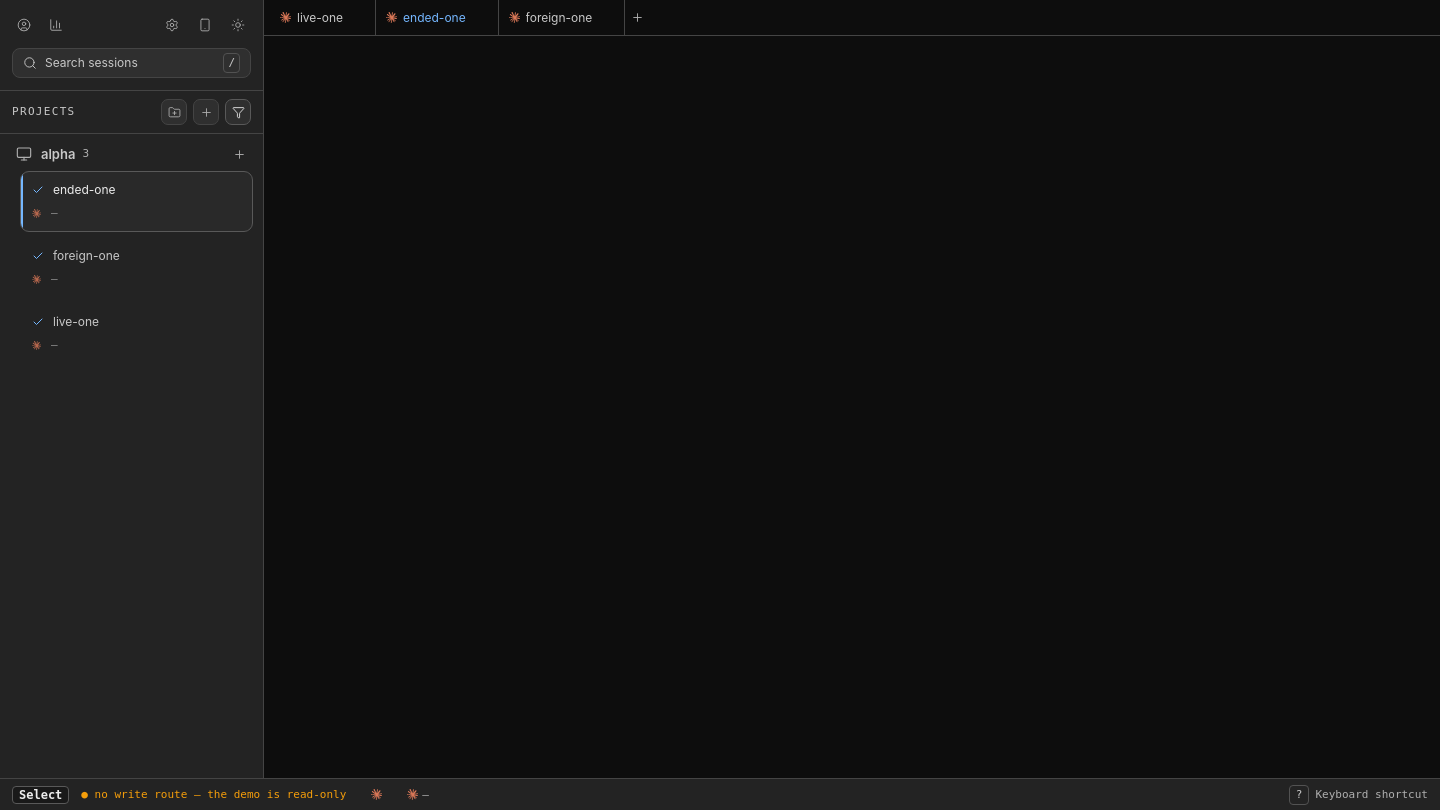
Test: a Claude-Code-only load whose own tmux listing failed › says why, in the filter popover, with no Codex row anywhere in the model
Step 1. Click the button named "filter sessions" → (238, 112), box [225,99,251,125]
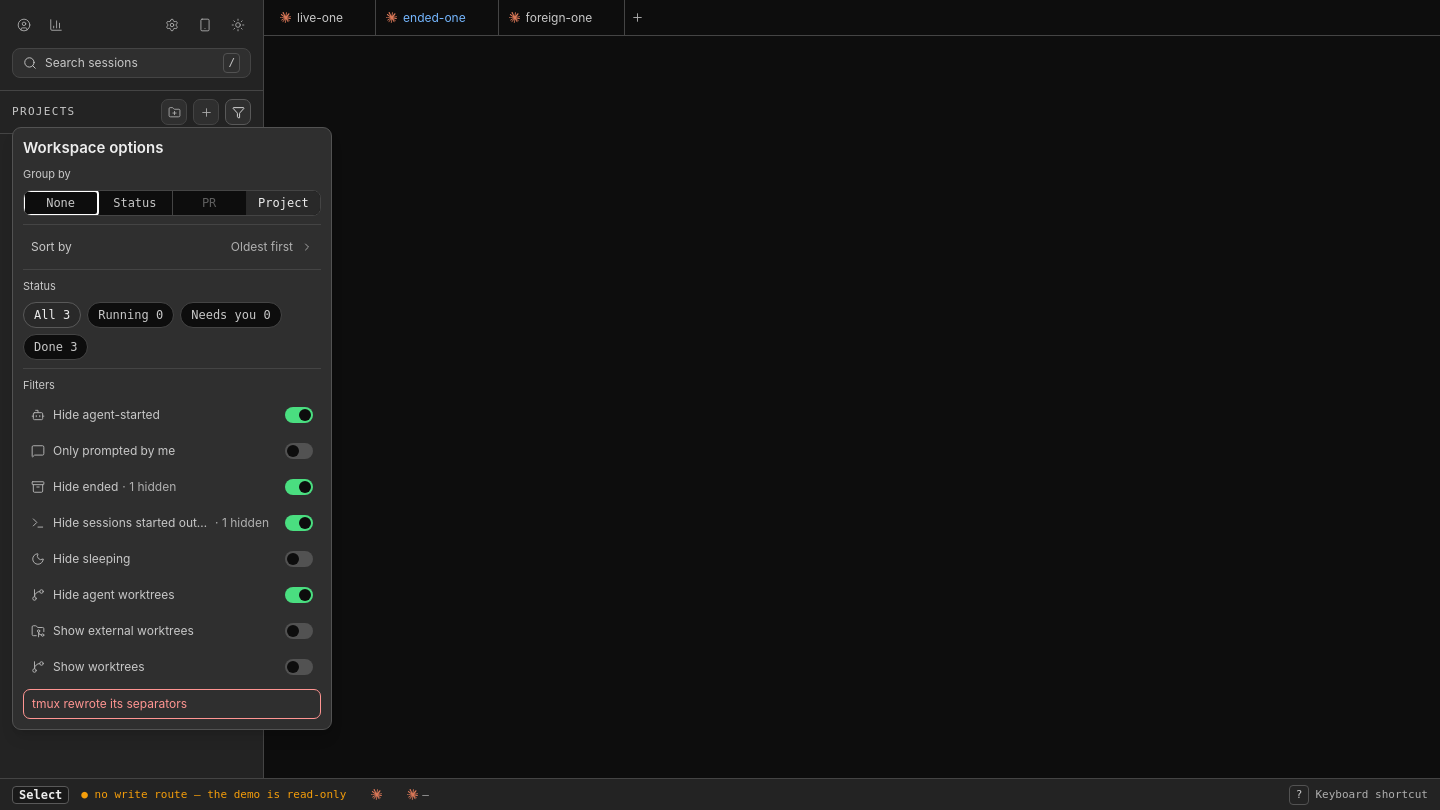
Check: the text "tmux rewrote its separators" is shown, box [23,689,321,719]
